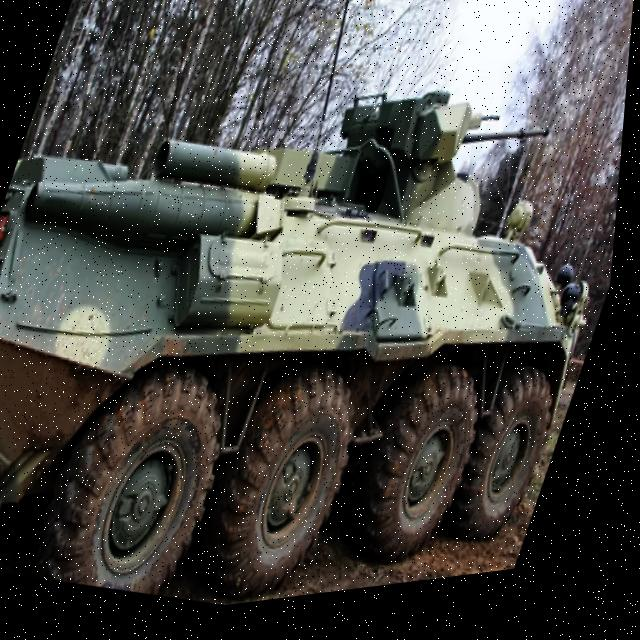MIL_APC: (0, 19, 635, 640)
